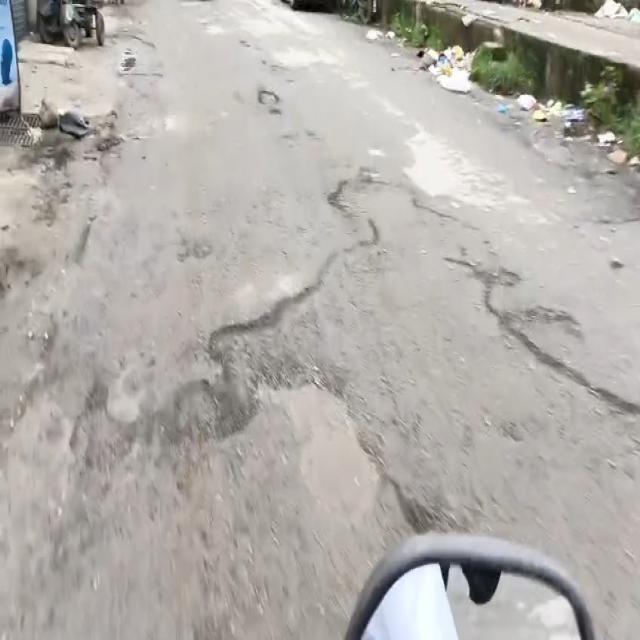road-pothole: (211, 176, 639, 606), (48, 376, 409, 639)
